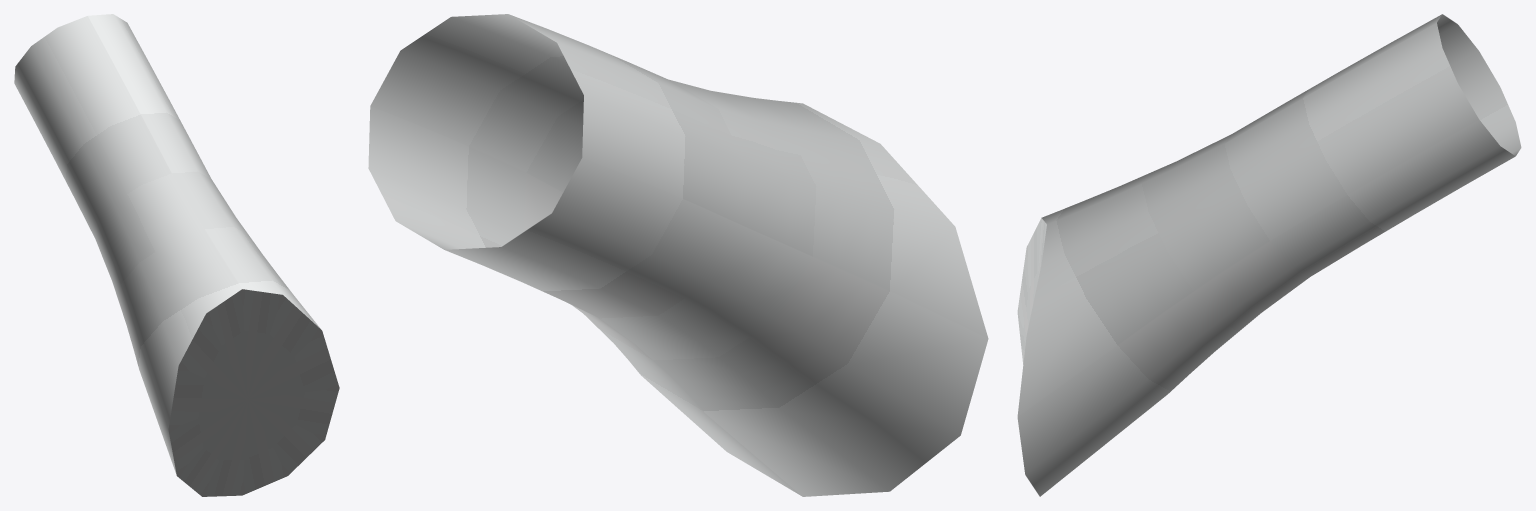
File: luminairearm_caltrans10ft_c0.obj
3 renders of one model, left to right at view 1: azimuth 30°, elevation 25°; view 2: azimuth 150°, elevation 25°; view 3: azimuth 270°, elevation 25°, orthographic. The views are drawn at different scales.
Parts seen in each view (by area): view 1: luminairearm_caltrans10ft_c0; view 2: luminairearm_caltrans10ft_c0; view 3: luminairearm_caltrans10ft_c0.
Part boxes in pixels (x1,y1,x2,y2): luminairearm_caltrans10ft_c0: (14,14,339,496); luminairearm_caltrans10ft_c0: (368,14,988,496); luminairearm_caltrans10ft_c0: (1017,14,1521,496).
Size of the model in its own units: 0.3375 by 0.6907 by 0.6829.
